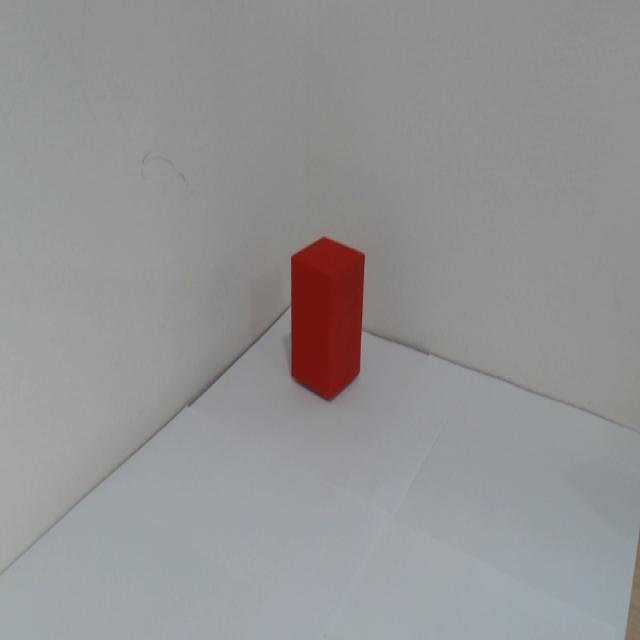cube: (288, 232, 367, 406)
